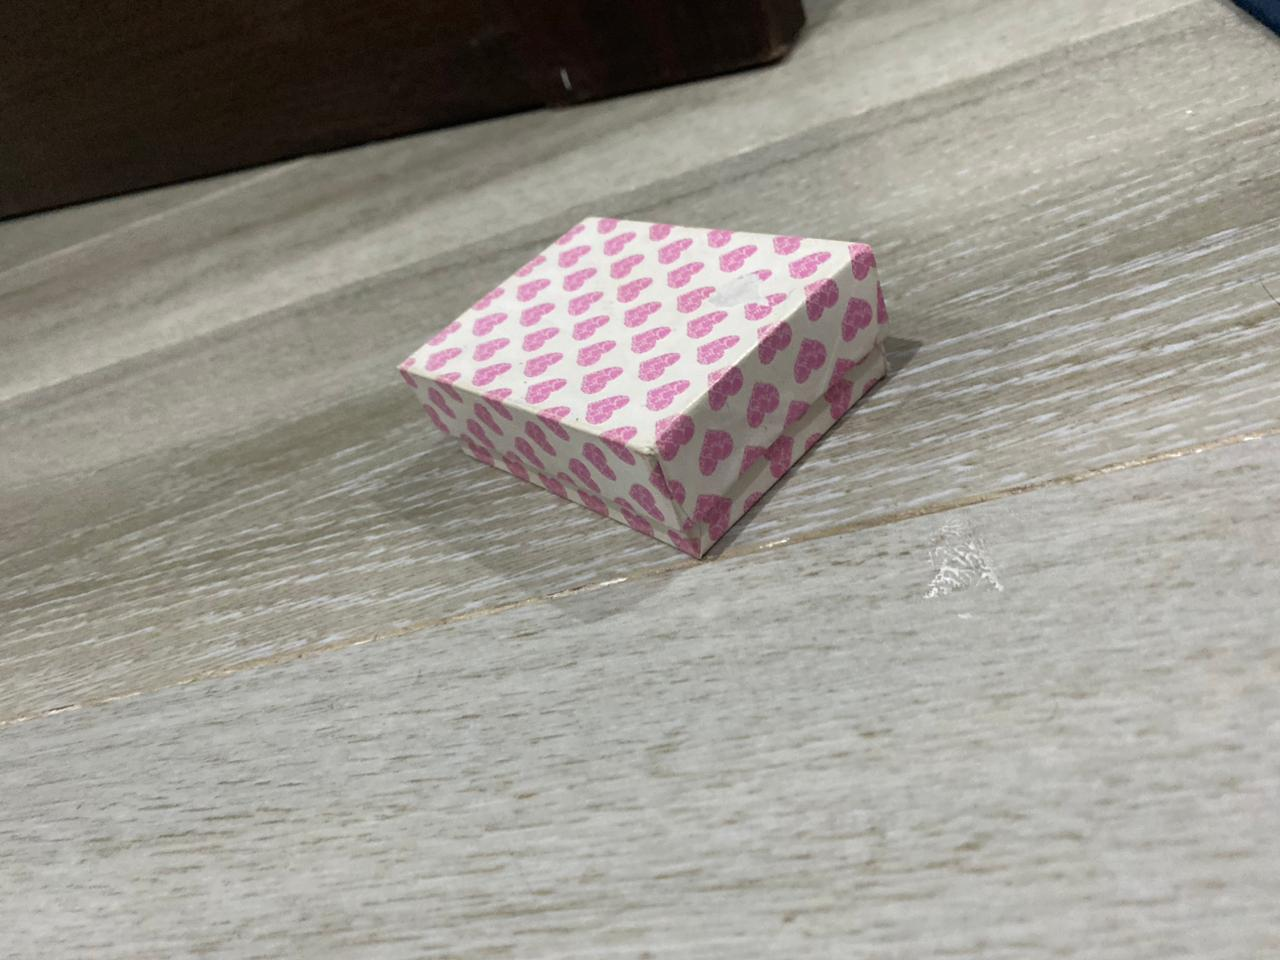Pink Box: (389, 212, 901, 567)
